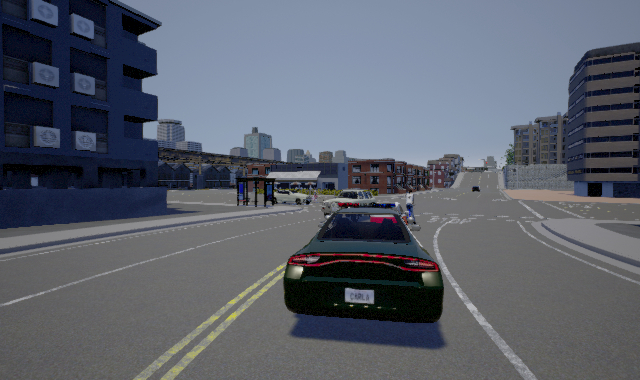bike: (404, 190, 417, 222)
vehicle: (283, 208, 444, 324), (320, 189, 379, 217), (274, 190, 317, 205)
